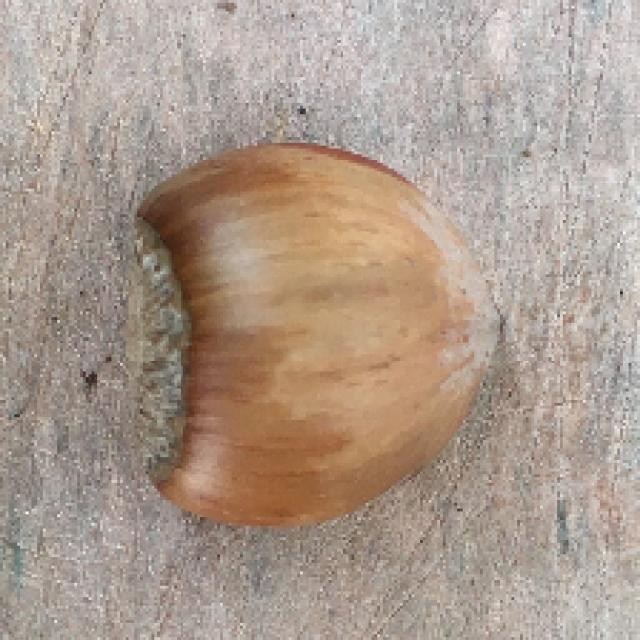damagedHazelnut: (116, 141, 524, 533)
